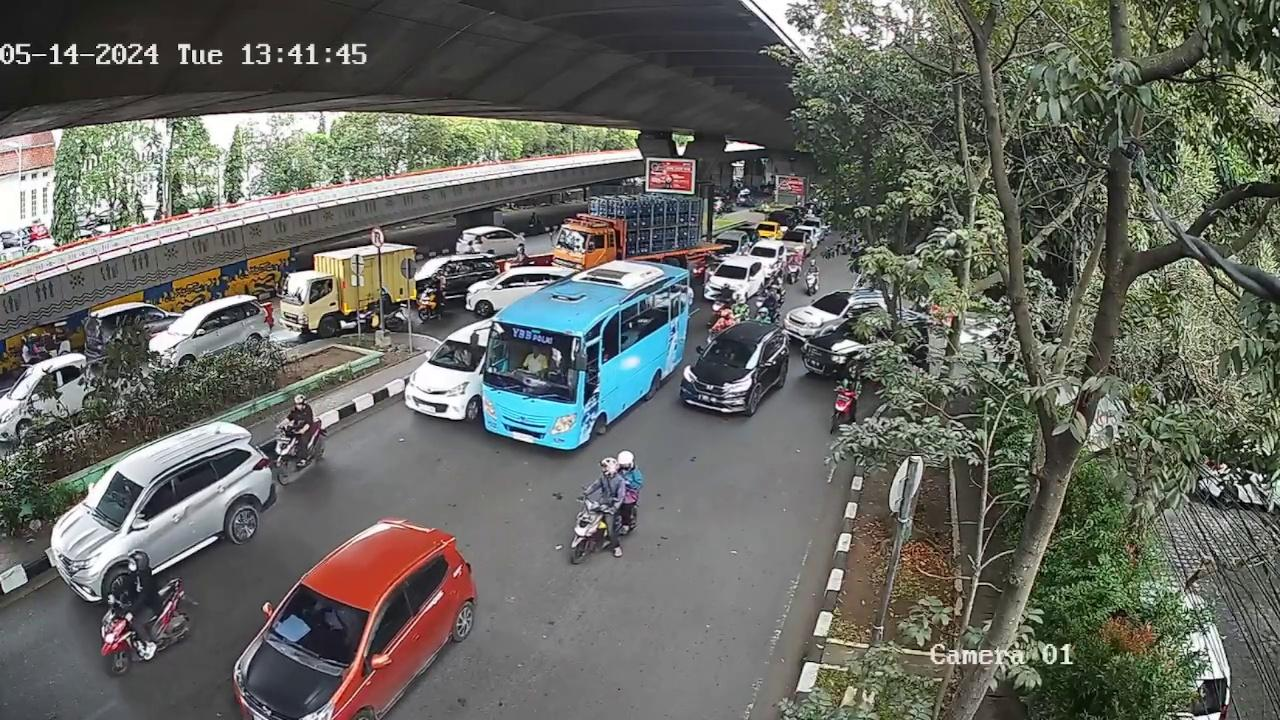pakai: (315, 601, 354, 638), (452, 349, 470, 365)
windshield: (266, 585, 370, 654), (705, 337, 760, 367), (432, 340, 484, 368)
